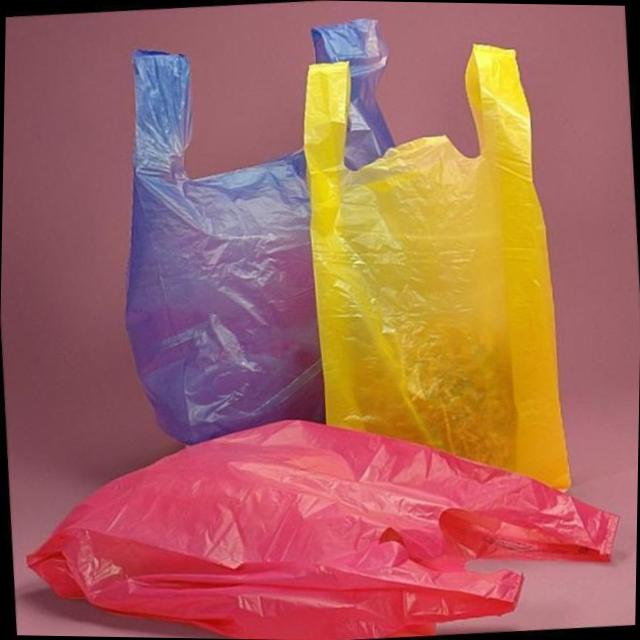KantongPlastik: (25, 38, 622, 632)
